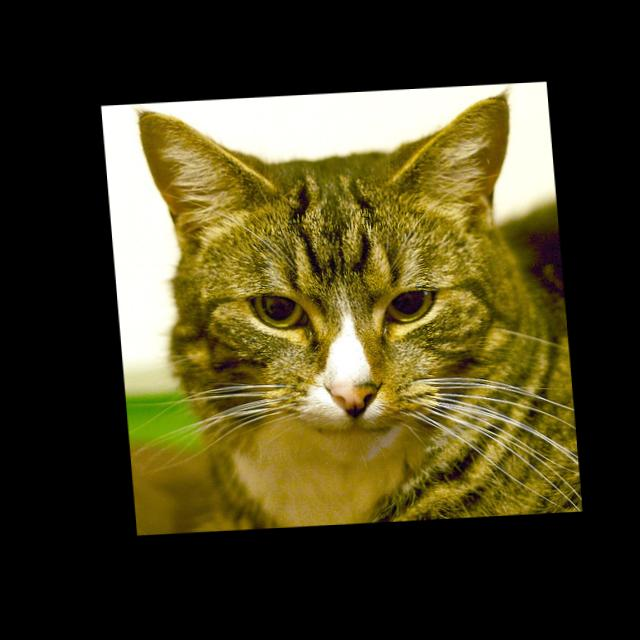animals: (141, 99, 520, 425)
